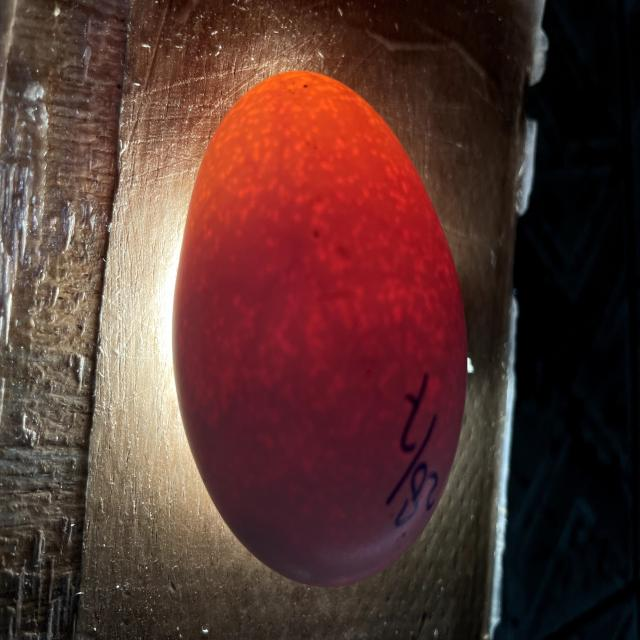fertile: (174, 72, 466, 587)
